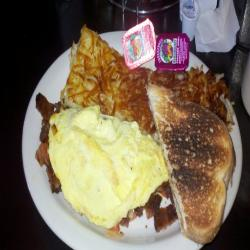apple_pie: (54, 29, 232, 128)
bread: (139, 78, 235, 247)
icecream: (37, 98, 169, 240)
